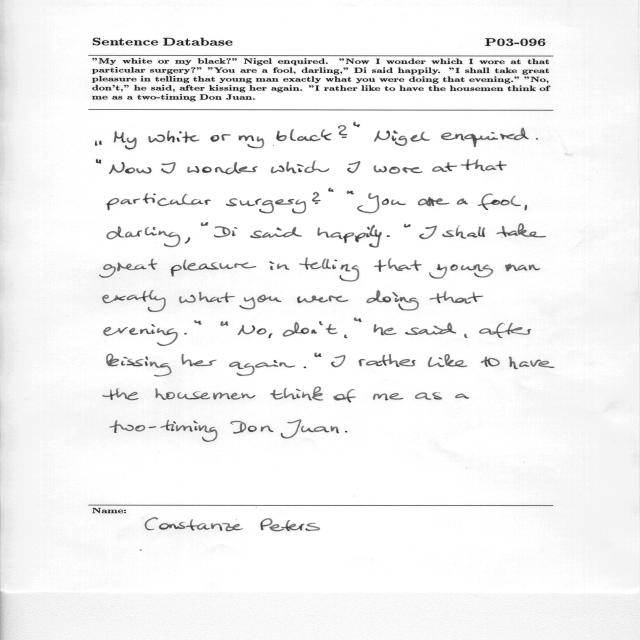word: (110, 420, 217, 442), (107, 193, 211, 210), (441, 128, 529, 147), (104, 324, 178, 346), (107, 226, 180, 247), (317, 225, 382, 248), (107, 354, 172, 377), (171, 260, 257, 277), (102, 290, 166, 312), (300, 258, 360, 281), (226, 198, 306, 214), (156, 388, 256, 400), (366, 290, 419, 311), (281, 420, 339, 439), (100, 259, 157, 278), (229, 360, 295, 376), (357, 193, 406, 213), (429, 264, 493, 279), (187, 162, 258, 175), (374, 130, 430, 146), (283, 321, 337, 337), (479, 323, 531, 338), (271, 161, 329, 174), (496, 223, 546, 238), (271, 387, 324, 401), (359, 354, 416, 367), (430, 291, 484, 304), (478, 194, 521, 210), (276, 129, 332, 141), (374, 258, 422, 272), (149, 130, 200, 143), (405, 322, 456, 335), (240, 295, 282, 310), (179, 292, 235, 303), (442, 225, 485, 239), (250, 227, 302, 238), (230, 421, 274, 434), (461, 159, 507, 171), (509, 357, 555, 369), (428, 354, 468, 367), (109, 162, 151, 174), (374, 165, 423, 174), (114, 131, 137, 150), (103, 389, 139, 401), (182, 354, 217, 366), (297, 295, 348, 303), (239, 136, 264, 149), (333, 389, 356, 403), (505, 264, 540, 272), (238, 325, 266, 335), (418, 197, 449, 206), (214, 227, 237, 238), (374, 325, 397, 336), (432, 162, 457, 172), (419, 226, 437, 239), (415, 392, 442, 400), (373, 393, 403, 400), (481, 356, 500, 367), (161, 162, 176, 174), (270, 261, 290, 270), (210, 134, 231, 142), (331, 355, 345, 367), (348, 161, 361, 173), (338, 125, 347, 138), (312, 192, 321, 204), (457, 198, 468, 205), (455, 394, 469, 399), (95, 140, 102, 146), (194, 320, 202, 325), (221, 321, 229, 326), (353, 122, 360, 127), (185, 237, 190, 244), (347, 191, 354, 195), (201, 222, 208, 226), (354, 318, 361, 322), (315, 353, 322, 357), (96, 159, 101, 164), (328, 188, 334, 192), (404, 224, 411, 227), (269, 333, 273, 338), (344, 335, 348, 339), (464, 334, 468, 338), (525, 205, 527, 210), (387, 235, 390, 237), (184, 333, 187, 335), (536, 138, 538, 140), (304, 367, 306, 369), (345, 431, 347, 433)
